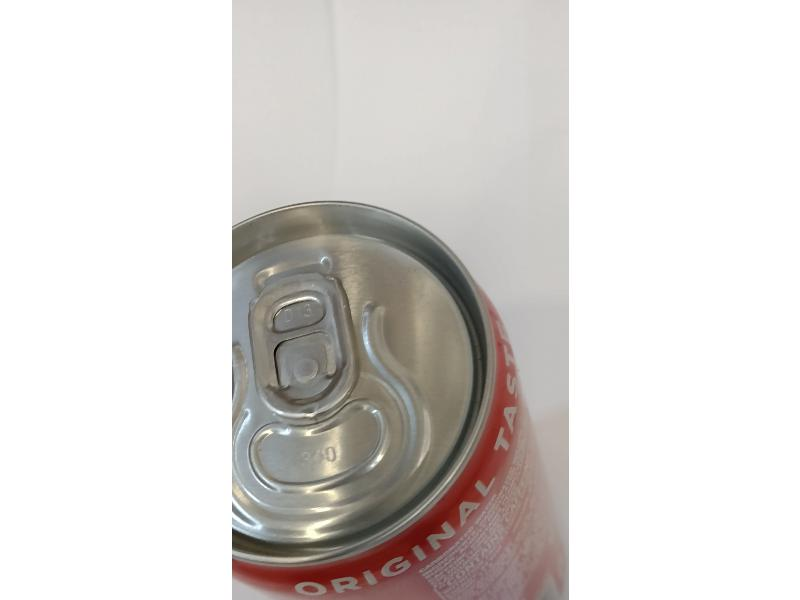can: (231, 185, 542, 600)
